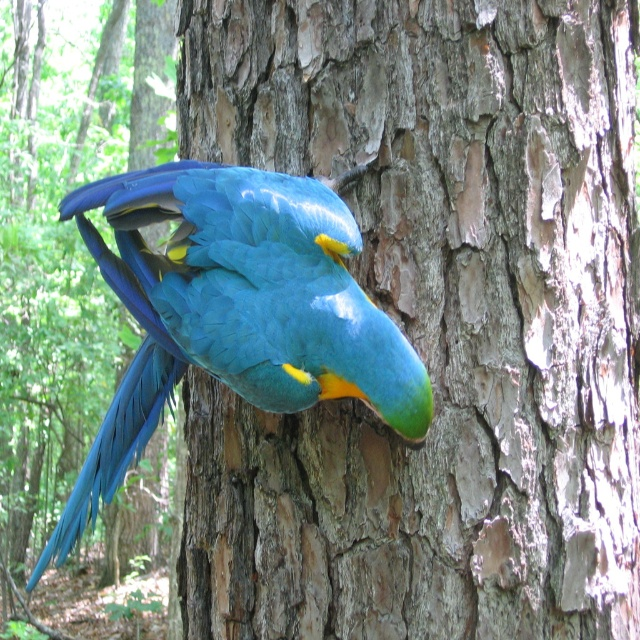Parrot: (23, 156, 432, 594)
